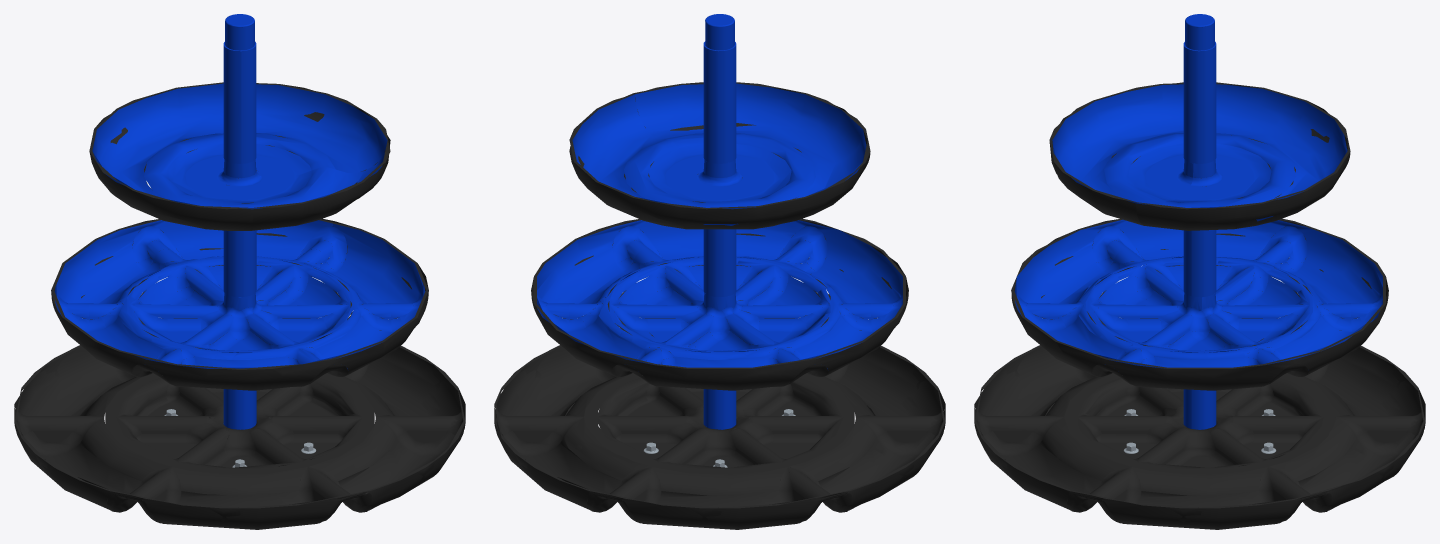
Rendered from AllianceShippingHub.fbx.
3 views of the same model, side by side, from view 1: azimuth 30°, elevation 25°; view 2: azimuth 150°, elevation 25°; view 3: azimuth 270°, elevation 25° (orthographic).
Visible parts, largest first — view 1: Shipping Hub, Lower Tray, Black (Level 1) am-4491, Shipping Hub, Middle Tray, Blue (Level 2) am-4492_blue, Shipping Hub, Upper Tray, Blue (Level 3) am-4493_blue, Alliance Shipping Hub Pipe Sleeve Blue am-4553_blue.001, Alliance Shipping Hub Pipe Sleeve Blue am-4553_blue, Alliance Shipping Hub Pipe Sleeve Blue am-4553_blue.002, Pipe Cap Blue am-4297_Blue; view 2: Shipping Hub, Lower Tray, Black (Level 1) am-4491, Shipping Hub, Middle Tray, Blue (Level 2) am-4492_blue, Shipping Hub, Upper Tray, Blue (Level 3) am-4493_blue, Alliance Shipping Hub Pipe Sleeve Blue am-4553_blue.001, Alliance Shipping Hub Pipe Sleeve Blue am-4553_blue, Alliance Shipping Hub Pipe Sleeve Blue am-4553_blue.002, Pipe Cap Blue am-4297_Blue; view 3: Shipping Hub, Lower Tray, Black (Level 1) am-4491, Shipping Hub, Middle Tray, Blue (Level 2) am-4492_blue, Shipping Hub, Upper Tray, Blue (Level 3) am-4493_blue, Alliance Shipping Hub Pipe Sleeve Blue am-4553_blue.001, Alliance Shipping Hub Pipe Sleeve Blue am-4553_blue, Alliance Shipping Hub Pipe Sleeve Blue am-4553_blue.002, Pipe Cap Blue am-4297_Blue.
Boxes of the visible parts, x1,y1,x2,y2 form: Shipping Hub, Lower Tray, Black (Level 1) am-4491: (14, 345, 465, 529); Shipping Hub, Middle Tray, Blue (Level 2) am-4492_blue: (51, 218, 428, 390); Shipping Hub, Upper Tray, Blue (Level 3) am-4493_blue: (89, 82, 390, 230); Alliance Shipping Hub Pipe Sleeve Blue am-4553_blue.001: (223, 41, 256, 163); Alliance Shipping Hub Pipe Sleeve Blue am-4553_blue: (223, 230, 256, 297); Alliance Shipping Hub Pipe Sleeve Blue am-4553_blue.002: (223, 389, 256, 429); Pipe Cap Blue am-4297_Blue: (225, 14, 254, 50); Shipping Hub, Lower Tray, Black (Level 1) am-4491: (494, 328, 945, 529); Shipping Hub, Middle Tray, Blue (Level 2) am-4492_blue: (531, 218, 908, 390); Shipping Hub, Upper Tray, Blue (Level 3) am-4493_blue: (569, 82, 870, 229); Alliance Shipping Hub Pipe Sleeve Blue am-4553_blue.001: (703, 41, 736, 163); Alliance Shipping Hub Pipe Sleeve Blue am-4553_blue: (703, 229, 736, 296); Alliance Shipping Hub Pipe Sleeve Blue am-4553_blue.002: (703, 389, 736, 429); Pipe Cap Blue am-4297_Blue: (705, 14, 734, 50); Shipping Hub, Lower Tray, Black (Level 1) am-4491: (974, 328, 1425, 529); Shipping Hub, Middle Tray, Blue (Level 2) am-4492_blue: (1011, 218, 1388, 390); Shipping Hub, Upper Tray, Blue (Level 3) am-4493_blue: (1049, 82, 1350, 230); Alliance Shipping Hub Pipe Sleeve Blue am-4553_blue.001: (1183, 41, 1216, 163); Alliance Shipping Hub Pipe Sleeve Blue am-4553_blue: (1183, 230, 1216, 297); Alliance Shipping Hub Pipe Sleeve Blue am-4553_blue.002: (1183, 389, 1216, 429); Pipe Cap Blue am-4297_Blue: (1185, 14, 1214, 50).
Size of the model in its own units: 455 by 515 by 455.
